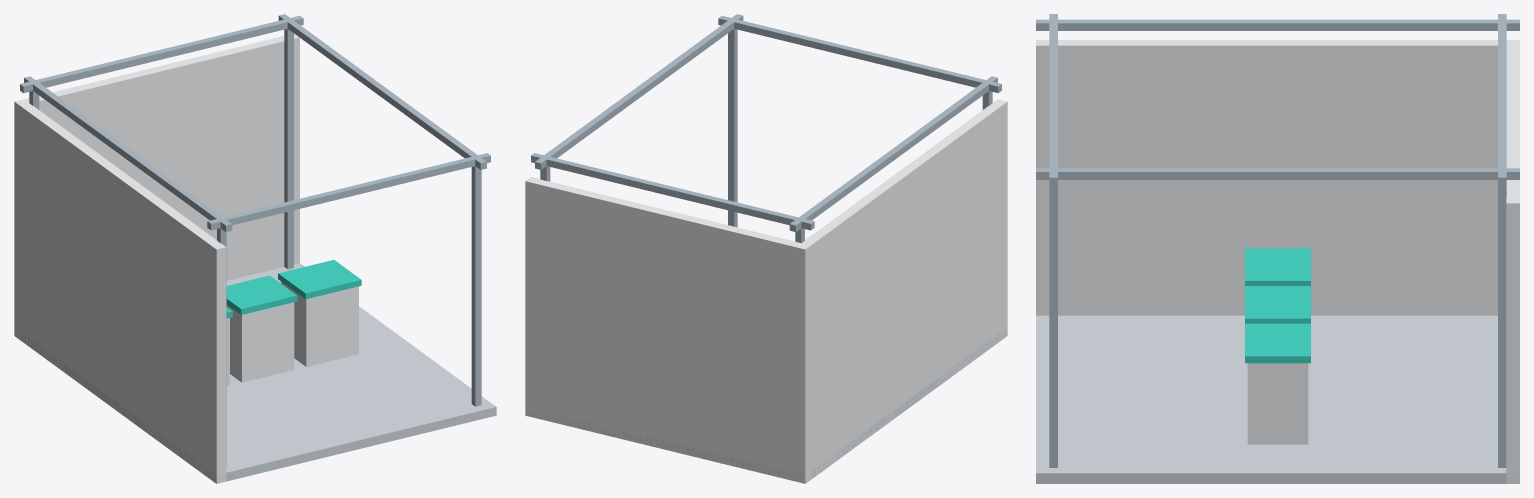
3 renders of one model, left to right at view 1: azimuth 30°, elevation 25°; view 2: azimuth 150°, elevation 25°; view 3: azimuth 270°, elevation 25°, orthographic. The views are drawn at different scales.
Parts seen in each view (by area): view 1: Exhibition Booth Concept; view 2: Exhibition Booth Concept; view 3: Exhibition Booth Concept.
Part boxes in pixels (x1,y1,x2,y2): Exhibition Booth Concept: [14, 14, 496, 483]; Exhibition Booth Concept: [525, 14, 1007, 483]; Exhibition Booth Concept: [1036, 14, 1519, 483].
Size of the model in its own units: 4 by 3.49 by 5.
